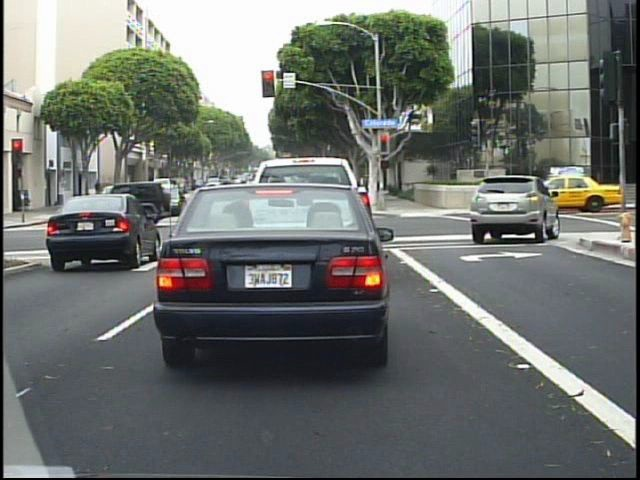person: (91, 177, 107, 210)
